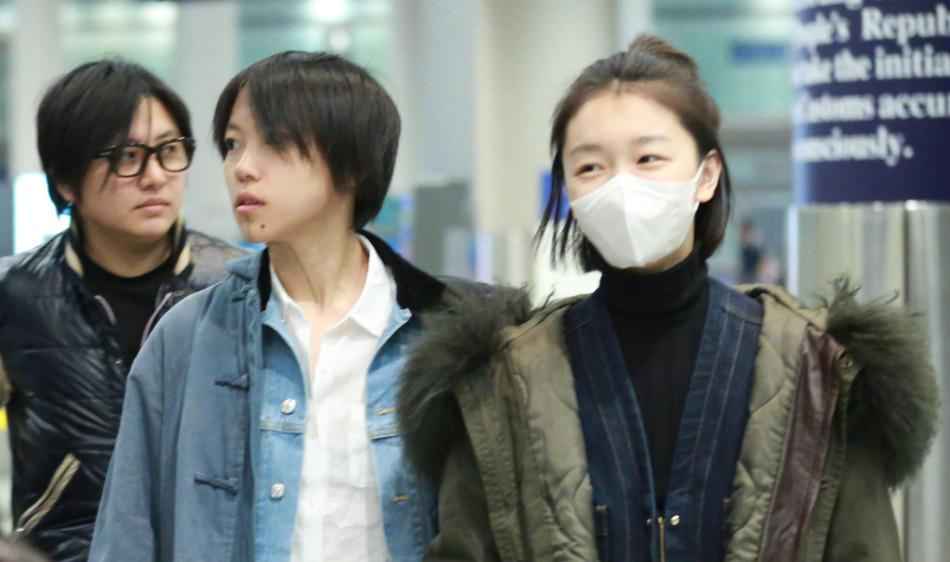face: (62, 96, 195, 239), (221, 94, 332, 247)
face_mask: (564, 94, 694, 268)
